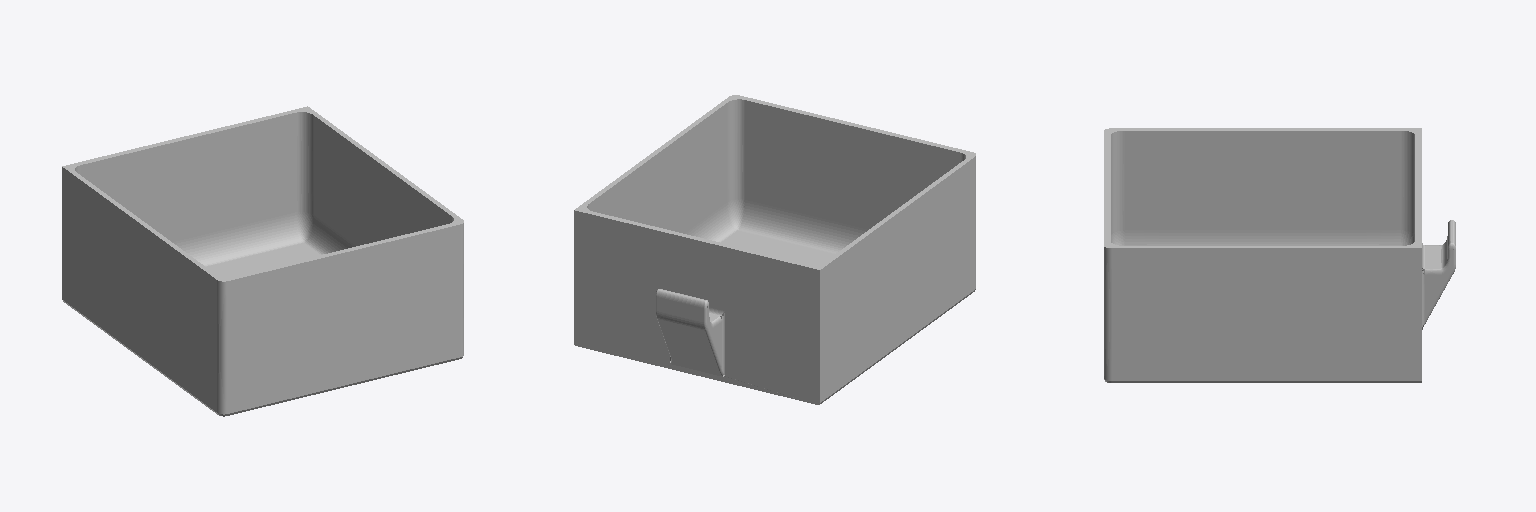
The model's file is SSE_Streaming_Case_P2.obj.
3 views of the same model, side by side, from view 1: azimuth 30°, elevation 25°; view 2: azimuth 150°, elevation 25°; view 3: azimuth 270°, elevation 25° (orthographic).
Visible parts, largest first — view 1: Mesh1 Group1 Model; view 2: Mesh1 Group1 Model; view 3: Mesh1 Group1 Model.
Part boxes in pixels (left/top/right/bottom): Mesh1 Group1 Model: left=62, top=106, right=463, bottom=416; Mesh1 Group1 Model: left=574, top=95, right=975, bottom=404; Mesh1 Group1 Model: left=1104, top=128, right=1455, bottom=382.
Bounding box in the file's own units: 5.71 × 3 × 7.08.